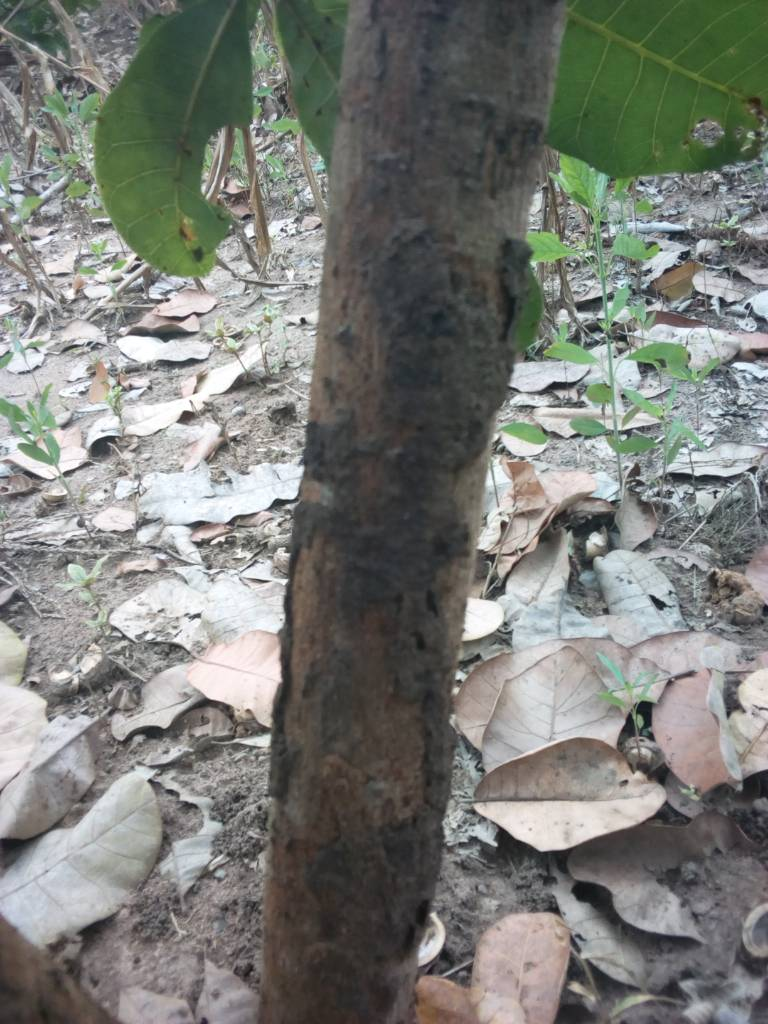Termites: (325, 175, 480, 949)
